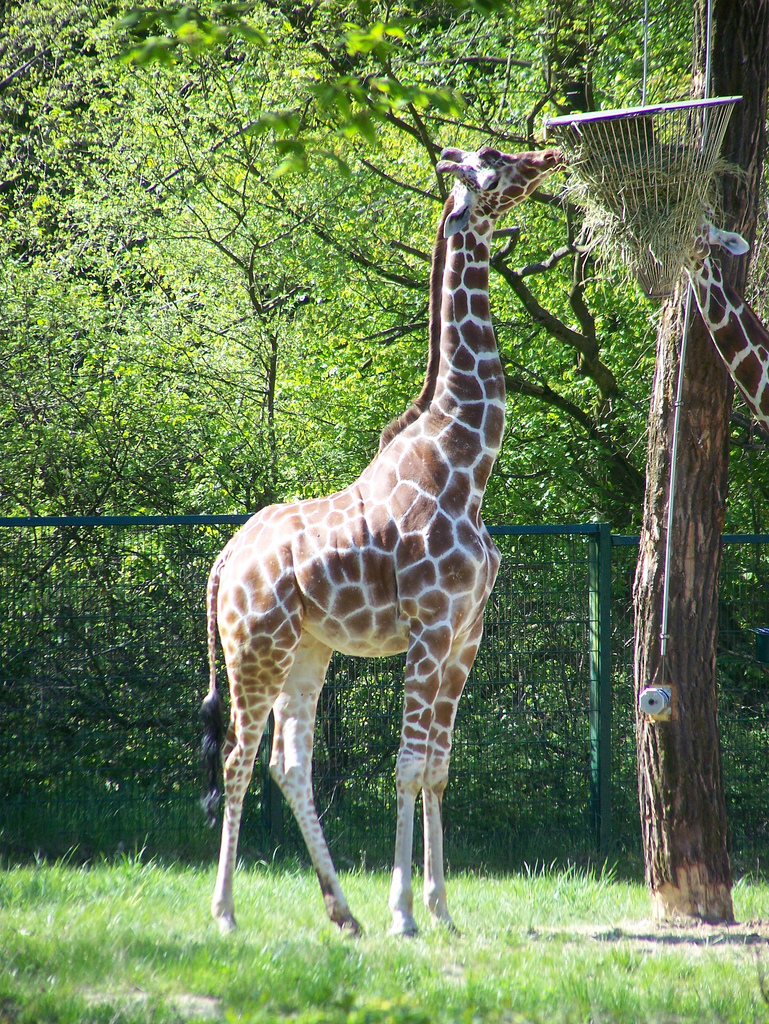giraffe: (180, 125, 581, 958)
